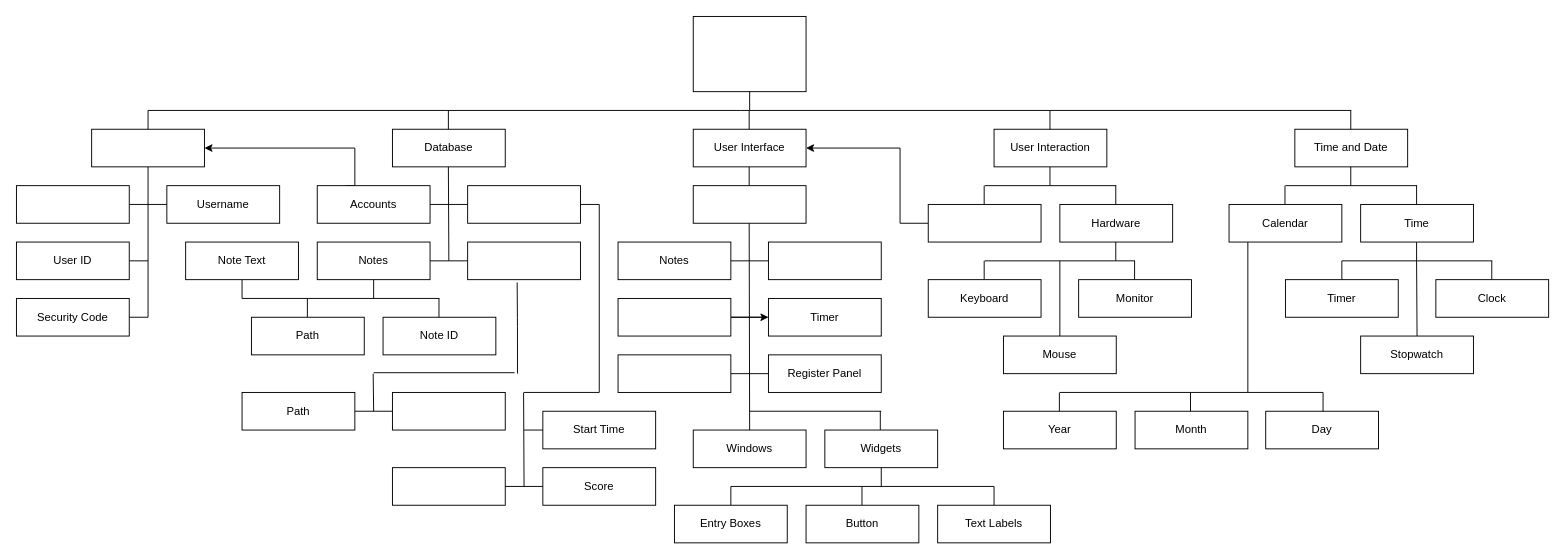
This 1565x559 diagram has some shape labels left out. Here are the shapes that lost their labels. From the top down, the box of each, then its label:
(692, 16, 806, 92): Assignment Organiser
(91, 128, 204, 167): Credentials and Security
(16, 185, 129, 223): Password
(467, 185, 580, 223): Sessions
(692, 185, 806, 223): GUI
(927, 204, 1041, 242): Software
(467, 241, 580, 280): Timetables
(768, 241, 881, 280): Timetable
(617, 298, 731, 336): Login Panel
(617, 354, 731, 392): Forgot Password Panel
(392, 392, 505, 430): Timetable ID
(392, 467, 505, 505): End Time
